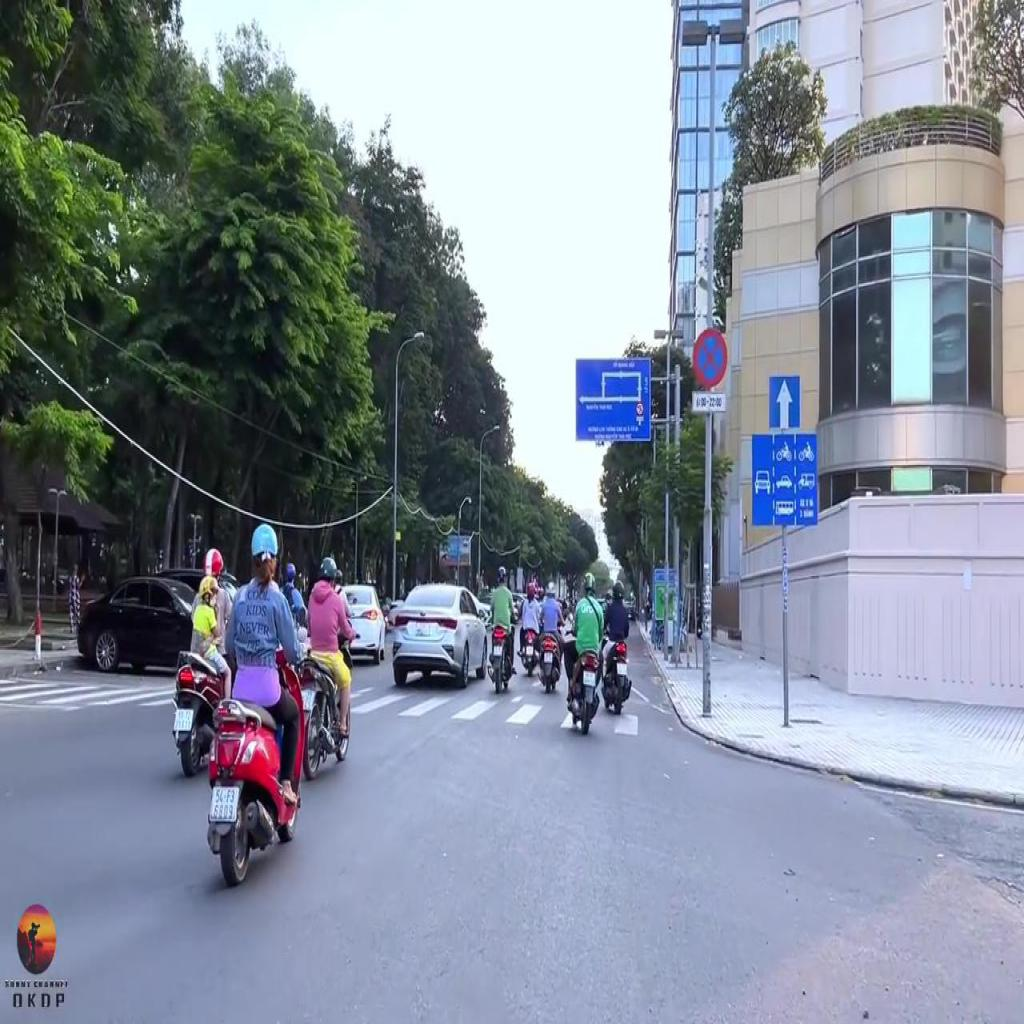cam_dung_xe_va_do_xe: (693, 328, 728, 387)
duong_mot_chieu: (769, 376, 800, 426)
khac: (576, 358, 650, 441), (692, 392, 725, 412)
lan_duong_cho_tung_xe_theo_vach_ke_duong: (751, 435, 818, 526)
